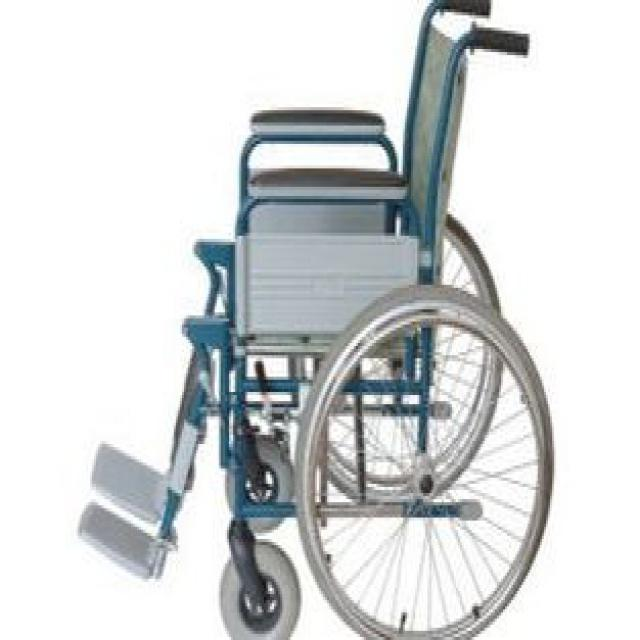wheelchair: (82, 0, 544, 637)
